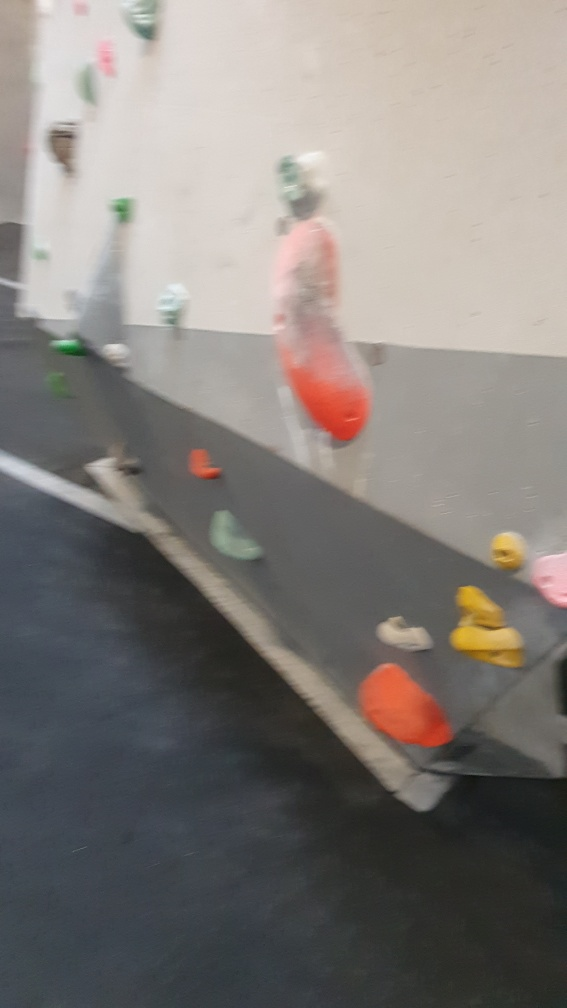Pinch: (268, 215, 373, 447)
